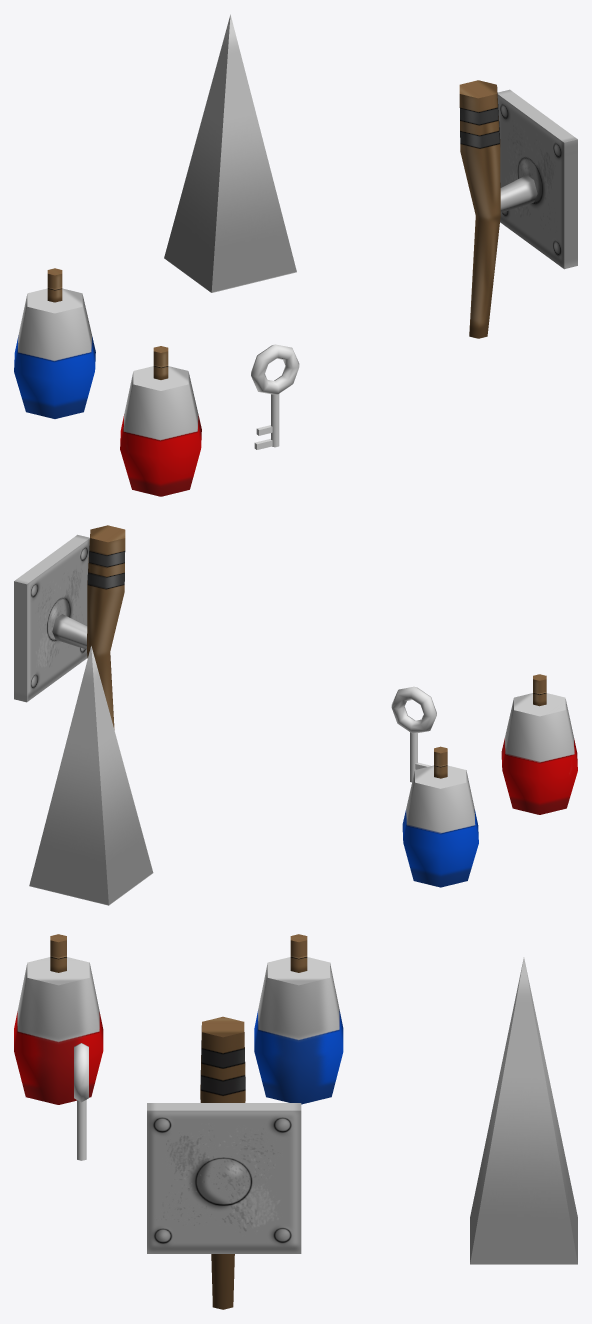
File: ETC.FBX
The picture shows the model from 3 angles, top to bottom: view 1: azimuth 30°, elevation 25°; view 2: azimuth 150°, elevation 25°; view 3: azimuth 270°, elevation 25°; orthographic projection. The views are drawn at different scales.
Parts seen in each view (by area): view 1: Spike, Torch, Potion01, Potion, Key; view 2: Spike, Torch, Potion01, Potion, Key; view 3: Torch, Spike, Potion01, Potion, Key.
Boxes of the visible parts, x1=… form: Spike: x1=164, y1=14, x2=296, y2=292; Torch: x1=459, y1=80, x2=577, y2=338; Potion01: x1=14, y1=268, x2=95, y2=418; Potion: x1=120, y1=346, x2=201, y2=496; Key: x1=251, y1=344, x2=299, y2=449; Spike: x1=29, y1=646, x2=153, y2=905; Torch: x1=14, y1=525, x2=125, y2=729; Potion01: x1=402, y1=746, x2=478, y2=887; Potion: x1=501, y1=674, x2=577, y2=814; Key: x1=391, y1=686, x2=436, y2=782; Torch: x1=147, y1=1016, x2=301, y2=1309; Spike: x1=470, y1=957, x2=577, y2=1264; Potion01: x1=254, y1=934, x2=343, y2=1104; Potion: x1=14, y1=934, x2=103, y2=1104; Key: x1=74, y1=1043, x2=88, y2=1160.
Size of the model in its own units: 46.93 by 40.71 by 22.71.
2 materials, 2 textured.
